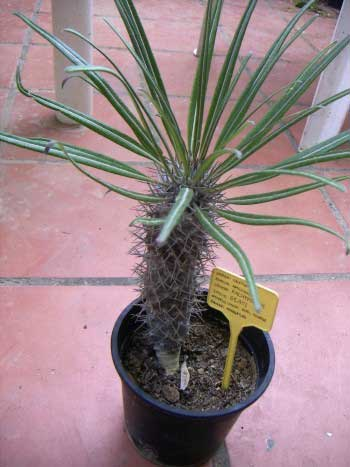Pachypodium lamerei Drake: (84, 49, 322, 392)
